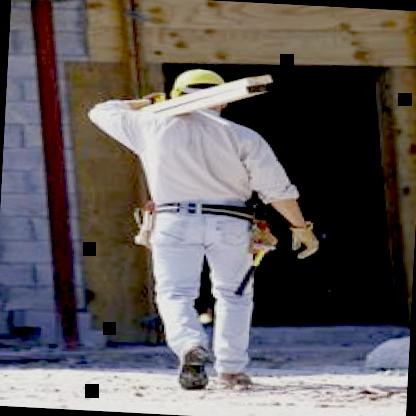helmet: (166, 61, 229, 116)
